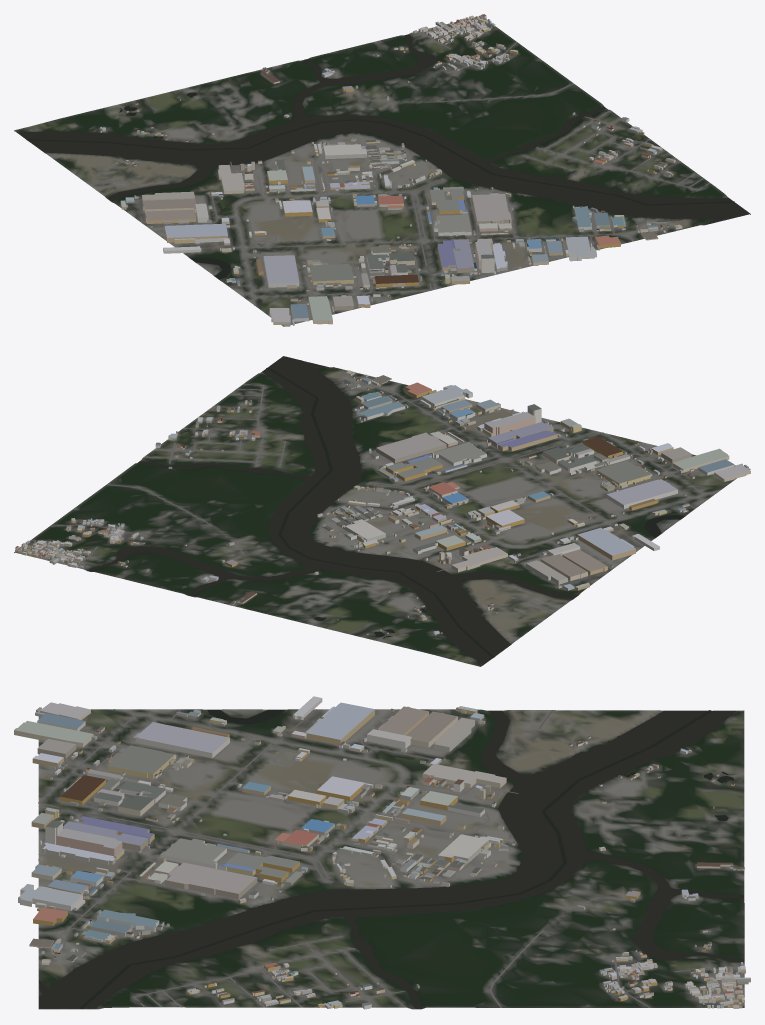
The picture shows the model from 3 angles, top to bottom: view 1: azimuth 30°, elevation 25°; view 2: azimuth 150°, elevation 25°; view 3: azimuth 270°, elevation 25°; orthographic projection. The views are drawn at different scales.
Visible parts, largest first — view 1: ground, buildings, water, roads; view 2: ground, buildings, water, roads; view 3: ground, buildings, water, roads.
Part boxes in pixels (x1,y1,x2,y2): ground: (14,17,750,326); buildings: (100,14,682,326); water: (17,34,749,279); roads: (87,18,710,313); ground: (14,361,750,666); buildings: (15,370,750,635); water: (87,356,684,664); roads: (21,380,721,613); ground: (38,709,744,1009); buildings: (14,696,750,1009); water: (39,709,743,1009); roads: (38,709,744,1007).
Bounding box in the file's own units: 1453 × 48.43 × 1462.
